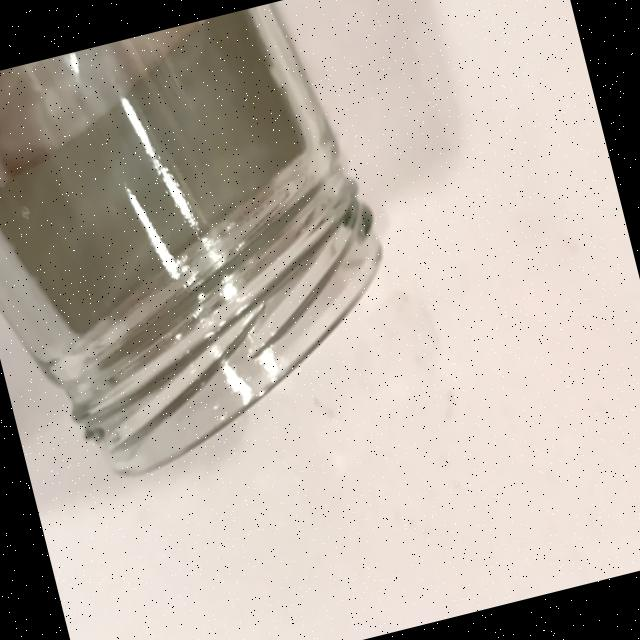glass: (0, 0, 423, 501)
